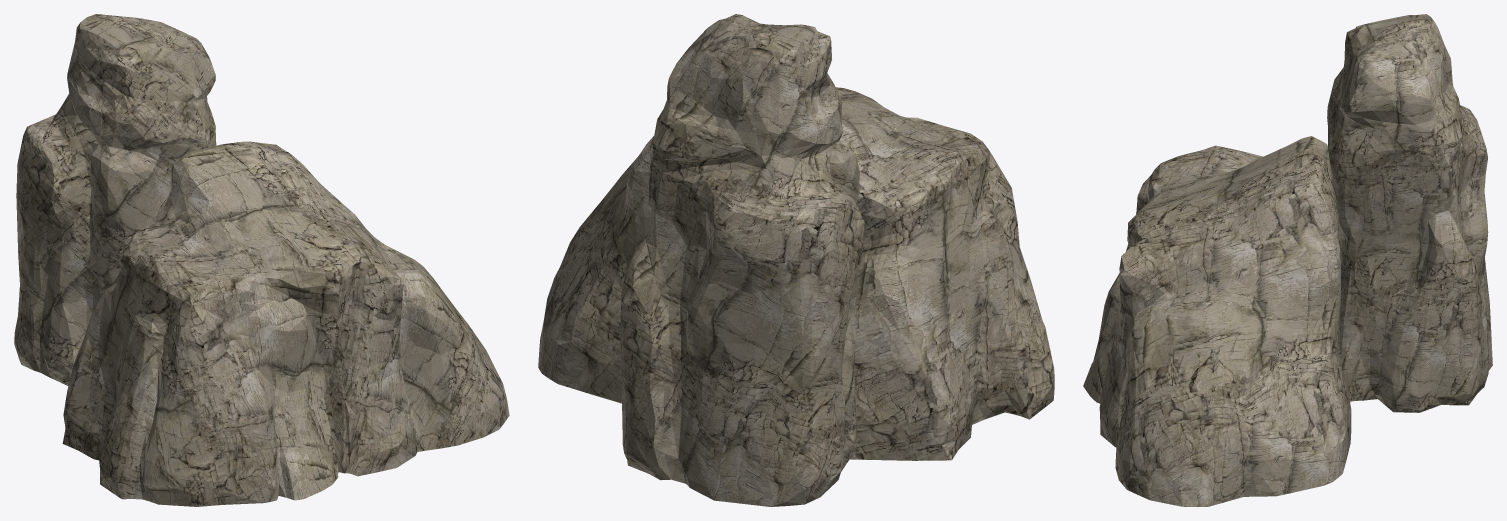
The model's file is tw2_1_rock_05_7-transformed.glb.
3 views of the same model, side by side, from view 1: azimuth 30°, elevation 25°; view 2: azimuth 150°, elevation 25°; view 3: azimuth 270°, elevation 25° (orthographic). The views are drawn at different scales.
Parts seen in each view (by area): view 1: default; view 2: default; view 3: default.
Boxes of the visible parts, x1=… form: default: x1=14, y1=14, x2=509, y2=506; default: x1=538, y1=14, x2=1054, y2=506; default: x1=1083, y1=14, x2=1492, y2=506.
Bounding box in the file's own units: 50.52 × 44.28 × 46.49.
Materials: 1 (1 with a texture image).
